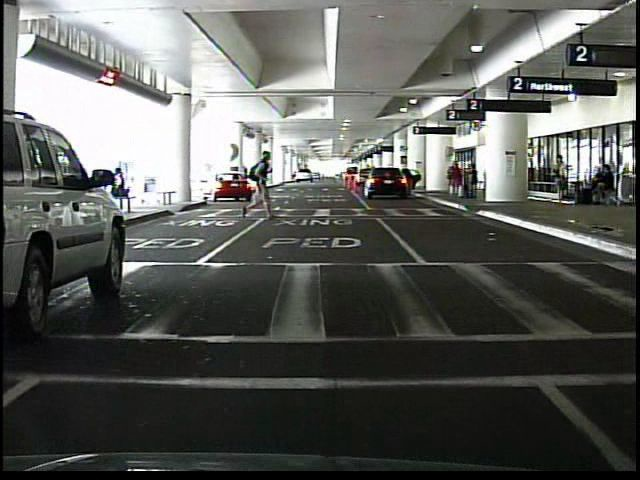person: (239, 150, 278, 222), (110, 165, 134, 197), (445, 159, 464, 199), (554, 156, 569, 203), (467, 165, 479, 199)
